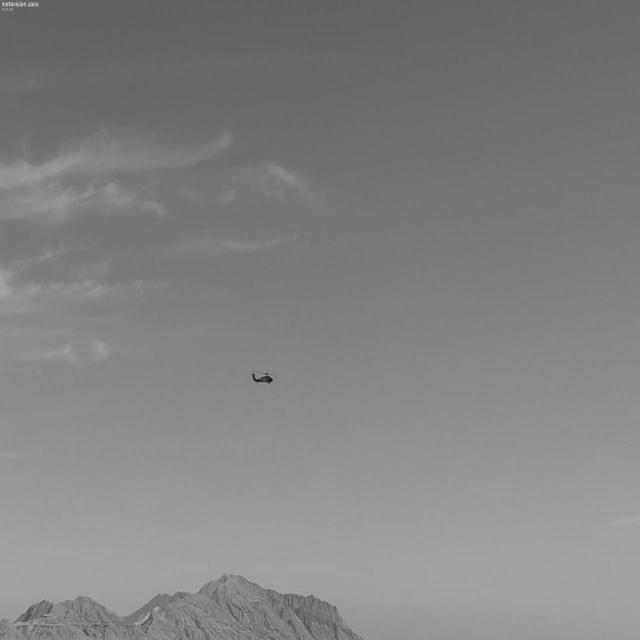helikopter: (235, 332, 313, 407)
